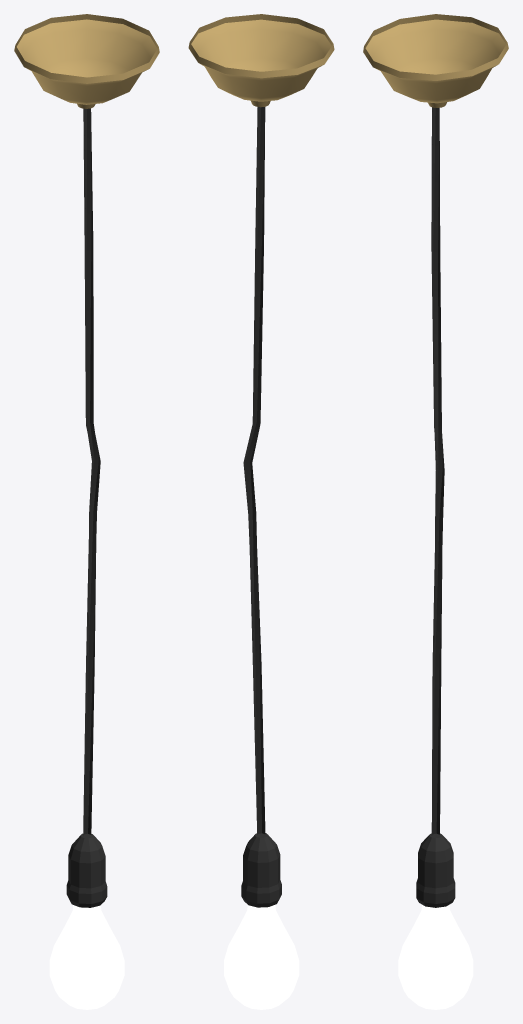
The model's file is ceiling_lamp.glb.
3 views of the same model, side by side, from view 1: azimuth 30°, elevation 25°; view 2: azimuth 150°, elevation 25°; view 3: azimuth 270°, elevation 25° (orthographic).
Visible parts, largest first — view 1: MOV_ceiling_lamp_swing, ceiling_lamp_static; view 2: MOV_ceiling_lamp_swing, ceiling_lamp_static; view 3: MOV_ceiling_lamp_swing, ceiling_lamp_static.
Part boxes in pixels (bbox=[...]): MOV_ceiling_lamp_swing: bbox=[49, 108, 124, 1009]; ceiling_lamp_static: bbox=[14, 14, 159, 108]; MOV_ceiling_lamp_swing: bbox=[224, 107, 299, 1009]; ceiling_lamp_static: bbox=[188, 14, 334, 107]; MOV_ceiling_lamp_swing: bbox=[398, 107, 473, 1009]; ceiling_lamp_static: bbox=[363, 14, 508, 107].
Size of the model in its own units: 0.132 by 0.9627 by 0.132.
